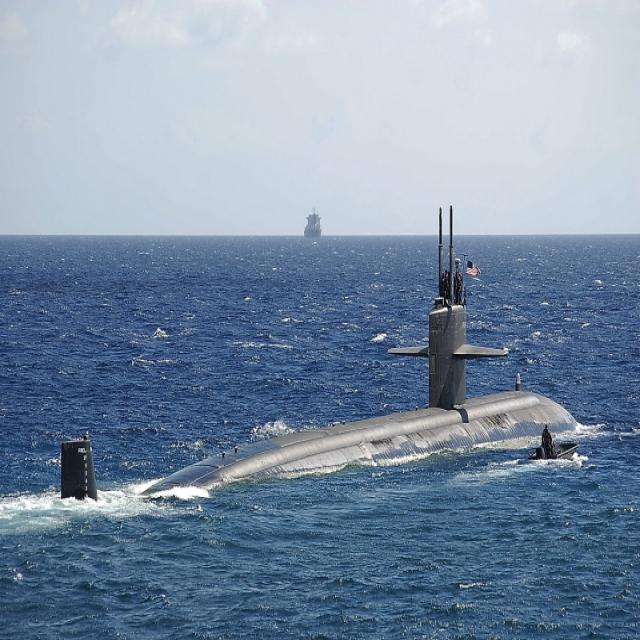submarine: (60, 212, 585, 509)
